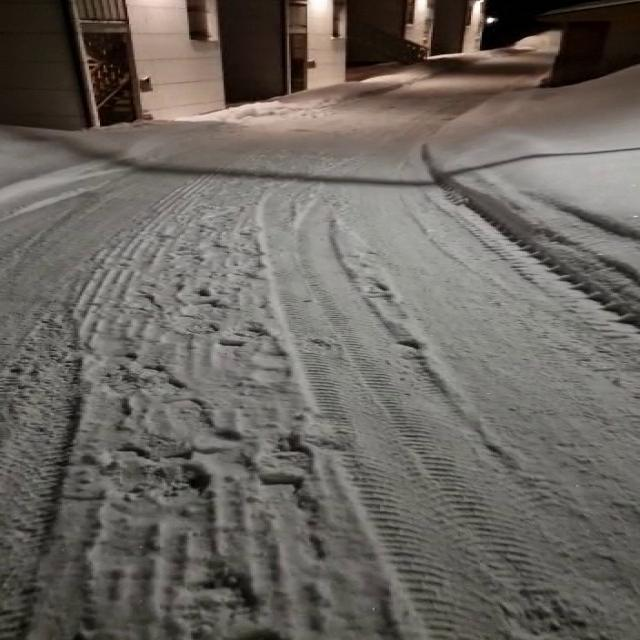path: (2, 50, 638, 640)
